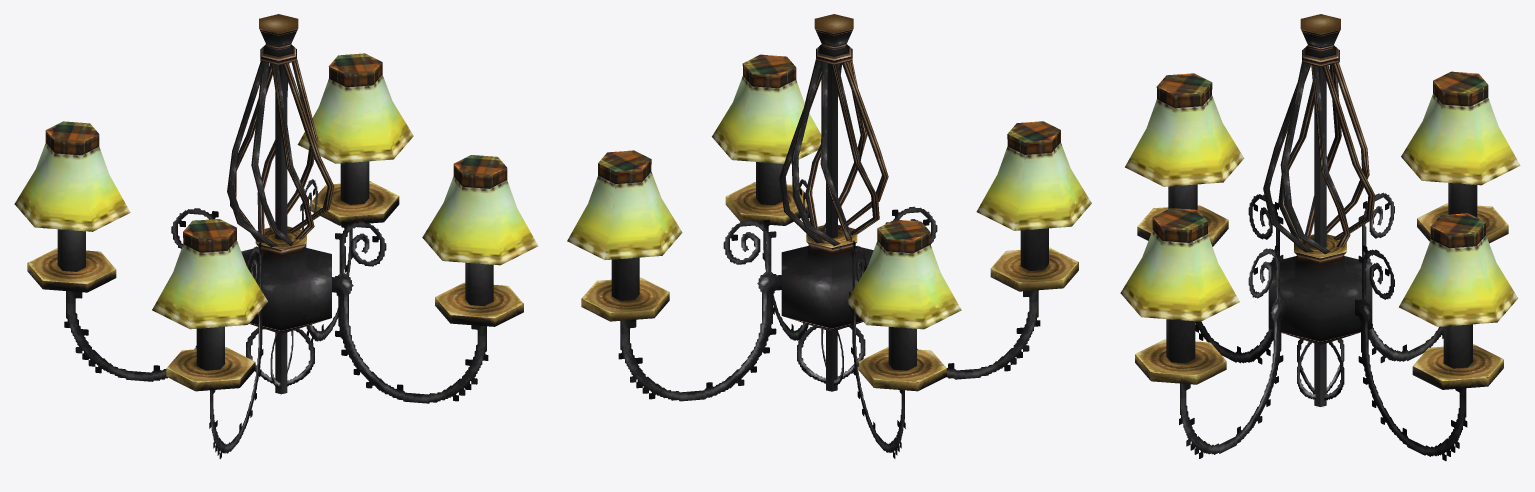
File: furni_0200301_03.FBX
3 views of the same model, side by side, from view 1: azimuth 30°, elevation 25°; view 2: azimuth 150°, elevation 25°; view 3: azimuth 270°, elevation 25° (orthographic). The views are drawn at different scales.
Visible parts, largest first — view 1: furni_0200301_03; view 2: furni_0200301_03; view 3: furni_0200301_03.
Part boxes in pixels (<box>): furni_0200301_03: <box>14,14,538,458</box>; furni_0200301_03: <box>567,14,1091,458</box>; furni_0200301_03: <box>1120,14,1520,460</box>.
Bounding box in the file's own units: 86.17 × 80.62 × 76.73.
